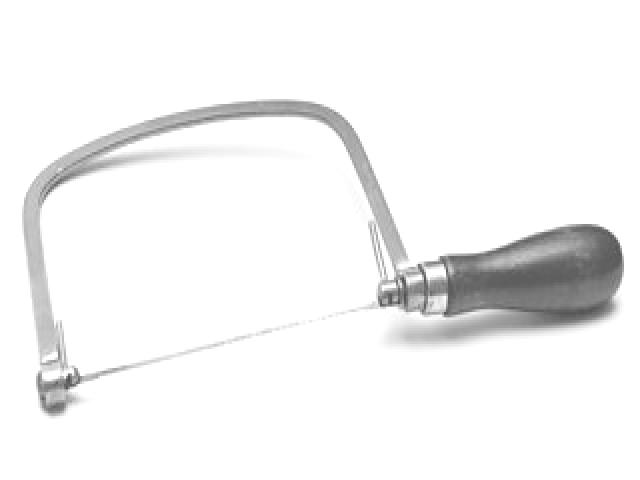Backsaw: (24, 99, 627, 415)
